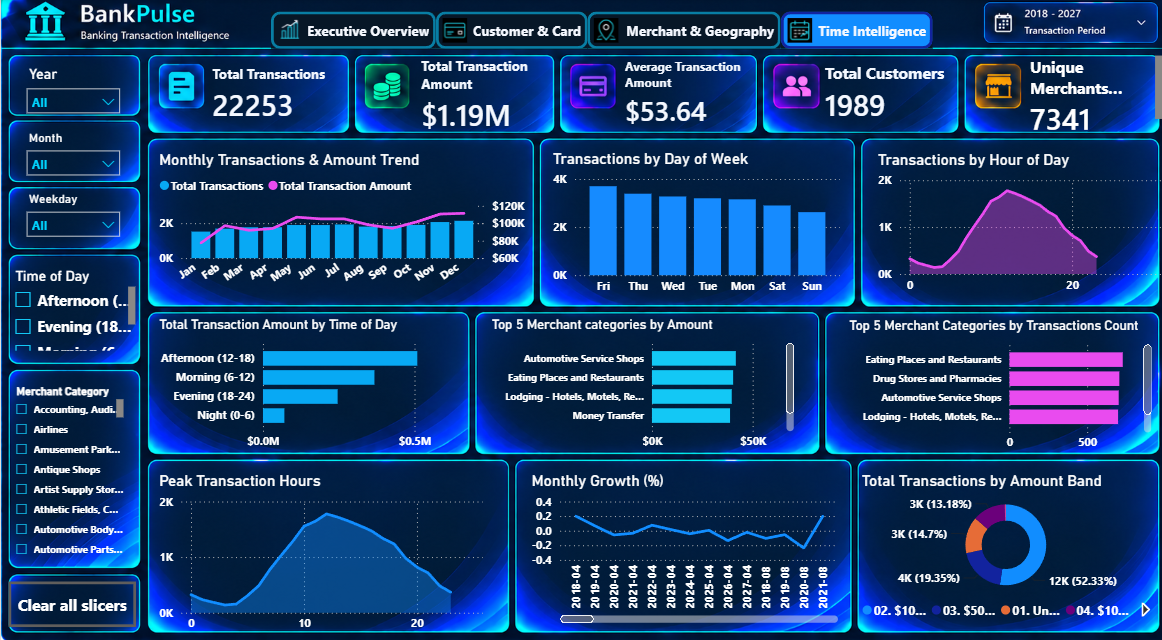

The page's visual inventory and layout, read from the dashboard file:
{"tool":"powerbi","page":{"name":"Time & Intelligence","canvas":[1280,720],"ordinal":3},"visuals":[{"type":"actionButton","box":[296.8,13.3,181,41],"z":0},{"type":"actionButton","box":[477.8,13.3,166.5,41],"z":1000},{"type":"actionButton","box":[644.2,13.3,212.3,41],"z":2000},{"type":"actionButton","box":[856.6,13.3,166.5,41],"z":3000},{"type":"cardVisual","fields":{"Data":["Measures (2).Total Transactions"]},"box":[203.1,43.9,217.2,121.9],"z":4000},{"type":"cardVisual","fields":{"Data":["Measures (2).Total Transaction Amount"]},"box":[432.2,43.9,223.7,122.1],"z":5000},{"type":"cardVisual","title":"Average","fields":{"Data":["Measures (2).Average Transaction Amount"]},"box":[655.9,42.5,236.5,121.9],"z":6000},{"type":"cardVisual","fields":{"Data":["Measures (2).Total Customers"]},"box":[875.5,42.5,224.4,121.9],"z":7000},{"type":"cardVisual","fields":{"Data":["Measures (2).Unique Merchants Count"]},"box":[1100.5,45.3,179.8,115.3],"z":8000},{"type":"slicer","fields":{"Values":["Calendar.Year"]},"box":[17.8,68.6,122.6,66.7],"z":9000},{"type":"slicer","fields":{"Values":["Calendar.Month"]},"box":[17.8,140,122.6,66.7],"z":10000},{"type":"slicer","fields":{"Values":["Calendar.Weekday"]},"box":[17.8,207.2,122.6,66.7],"z":11000},{"type":"clusteredColumnChart","title":"Transactions by Day of Week","fields":{"Category":["Calendar.Weekday"],"Y":["Measures (2).Total Transactions"]},"box":[601,164.7,325.2,168.8],"z":12000},{"type":"lineClusteredColumnComboChart","title":"Monthly Transactions & Amount Trend","fields":{"Category":["Calendar.Month"],"Y":["Measures (2).Total Transactions"],"Y2":["Measures (2).Total Transaction Amount"]},"box":[168.8,166,411.7,164.7],"z":13000},{"type":"areaChart","title":"Transactions by Hour of Day","fields":{"Category":["transactions_data.Hour"],"Y":["CountNonNull(transactions_data.id)"]},"box":[957.8,166,322.5,166],"z":14000},{"type":"barChart","fields":{"Category":["transactions_data.Time of Day"],"Y":["Measures (2).Total Transaction Amount"]},"box":[168.8,348.5,341.7,155.1],"z":15000},{"type":"barChart","title":"Top 5 Merchant categories by Amount","fields":{"Category":["mcc_codes.merchant_category"],"Y":["Measures (2).Total Transaction Amount"]},"box":[533.8,348.5,341.7,155.1],"z":16000},{"type":"barChart","title":"Top 5 Merchant Categories by Transactions Count","fields":{"Category":["mcc_codes.merchant_category"],"Y":["Measures (2).Total Transactions"]},"box":[926.2,349.9,341.7,155.1],"z":17000},{"type":"areaChart","title":"Peak Transaction Hours","fields":{"Category":["transactions_data.Hour"],"Y":["Measures (2).Total Transactions"]},"box":[168.8,518.7,365,185.2],"z":18000},{"type":"lineChart","title":"Monthly Growth (%)","fields":{"Category":["Calendar.Year-Month"],"Y":["Measures (2).Monthly Growth %"]},"box":[577.5,518.8,346.2,171.2],"z":19000},{"type":"donutChart","fields":{"Category":["transactions_data.Amount Band"],"Y":["Measures (2).Total Transactions"]},"box":[940,504.3,327.1,185.7],"z":20000},{"type":"slicer","title":"Time of day","fields":{"Values":["transactions_data.Time of Day"]},"box":[2.9,291.4,150,100],"z":21000},{"type":"slicer","fields":{"Values":["mcc_codes.merchant_category"]},"box":[4.3,418.6,135.7,205.7],"z":22000},{"type":"actionButton","box":[8.6,640,140,50],"z":23000}]}

Visuals, with their boxes in screenshot pixels (x1, y1, x2, y2), scaled from the page's 1280x720 canvas onto the 1162x640 screenshot:
actionButton: detection(269, 12, 434, 48)
actionButton: detection(434, 12, 585, 48)
actionButton: detection(585, 12, 778, 48)
actionButton: detection(778, 12, 929, 48)
cardVisual - Measures (2).Total Transactions: detection(184, 39, 382, 147)
cardVisual - Measures (2).Total Transaction Amount: detection(392, 39, 595, 148)
"Average" cardVisual: detection(595, 38, 810, 146)
cardVisual - Measures (2).Total Customers: detection(795, 38, 999, 146)
cardVisual - Measures (2).Unique Merchants Count: detection(999, 40, 1161, 143)
slicer - Calendar.Year: detection(16, 61, 127, 120)
slicer - Calendar.Month: detection(16, 124, 127, 184)
slicer - Calendar.Weekday: detection(16, 184, 127, 243)
"Transactions by Day of Week" clusteredColumnChart: detection(546, 146, 841, 296)
"Monthly Transactions & Amount Trend" lineClusteredColumnComboChart: detection(153, 148, 527, 294)
"Transactions by Hour of Day" areaChart: detection(870, 148, 1161, 295)
barChart - transactions_data.Time of Day x Measures (2).Total Transaction Amount: detection(153, 310, 463, 448)
"Top 5 Merchant categories by Amount" barChart: detection(485, 310, 795, 448)
"Top 5 Merchant Categories by Transactions Count" barChart: detection(841, 311, 1151, 449)
"Peak Transaction Hours" areaChart: detection(153, 461, 485, 626)
"Monthly Growth (%)" lineChart: detection(524, 461, 839, 613)
donutChart - transactions_data.Amount Band x Measures (2).Total Transactions: detection(853, 448, 1150, 613)
"Time of day" slicer: detection(3, 259, 139, 348)
slicer - mcc_codes.merchant_category: detection(4, 372, 127, 555)
actionButton: detection(8, 569, 135, 613)
